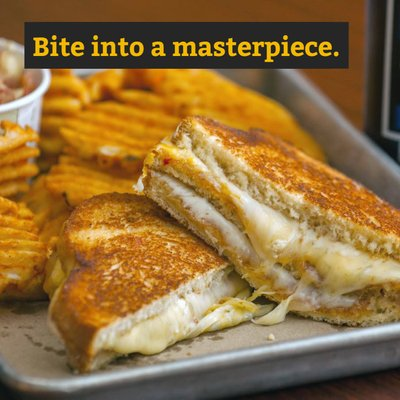soup: (132, 114, 400, 329), (45, 192, 267, 373)
sushi: (0, 37, 51, 137), (0, 68, 52, 136)
